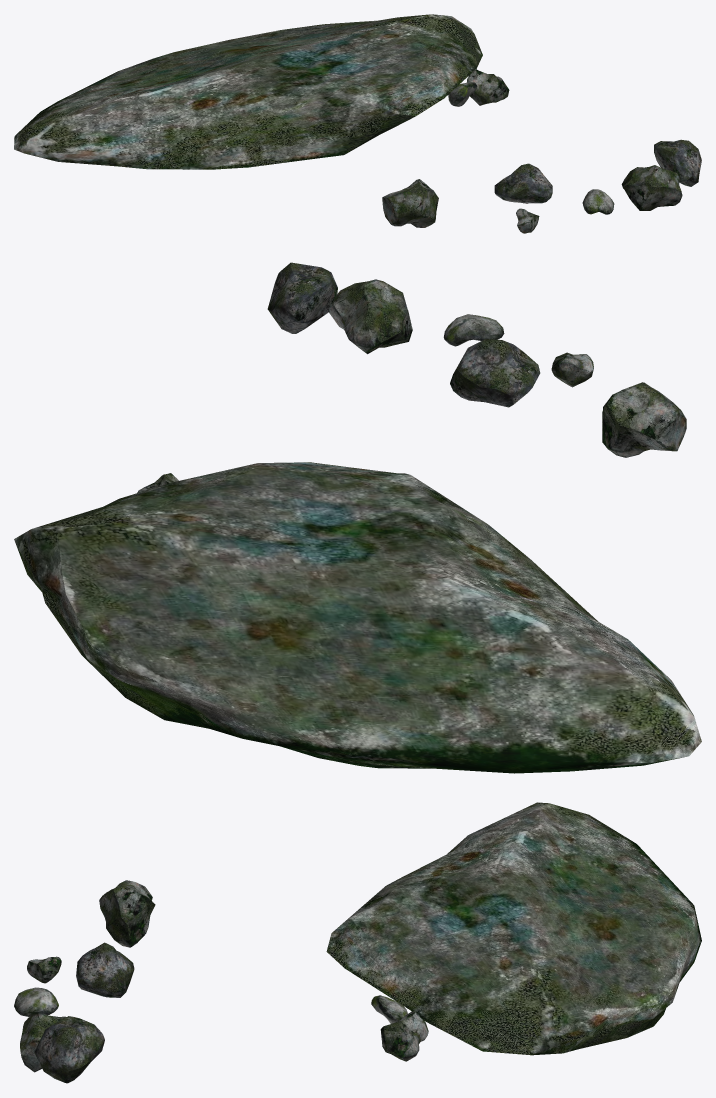
Rendered from rocks_small.glb.
3 views of the same model, one above another, from view 1: azimuth 30°, elevation 25°; view 2: azimuth 150°, elevation 25°; view 3: azimuth 270°, elevation 25° (orthographic). The views are drawn at different scales.
Visible parts, largest first — view 1: moreRocks; view 2: moreRocks; view 3: moreRocks.
Part boxes in pixels (x1,y1,x2,y2): moreRocks: (14, 14, 701, 233); moreRocks: (14, 262, 701, 773); moreRocks: (14, 802, 701, 1083).
Size of the model in its own units: 17.9 by 3.76 by 18.7.
Materials: 1 (1 with a texture image).
